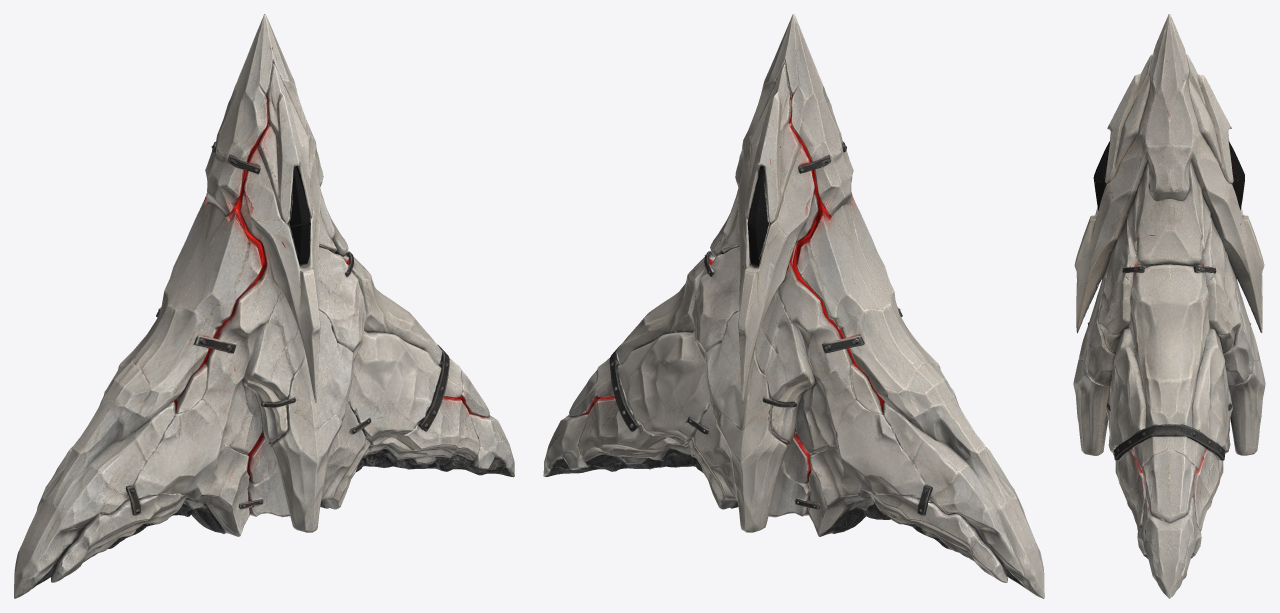
The model's file is talus.glb.
3 views of the same model, side by side, from view 1: azimuth 30°, elevation 25°; view 2: azimuth 150°, elevation 25°; view 3: azimuth 270°, elevation 25° (orthographic). The views are drawn at different scales.
Bounding box in the file's own units: 1.9 × 1.9 × 0.6966.
1 material, 1 textured.
